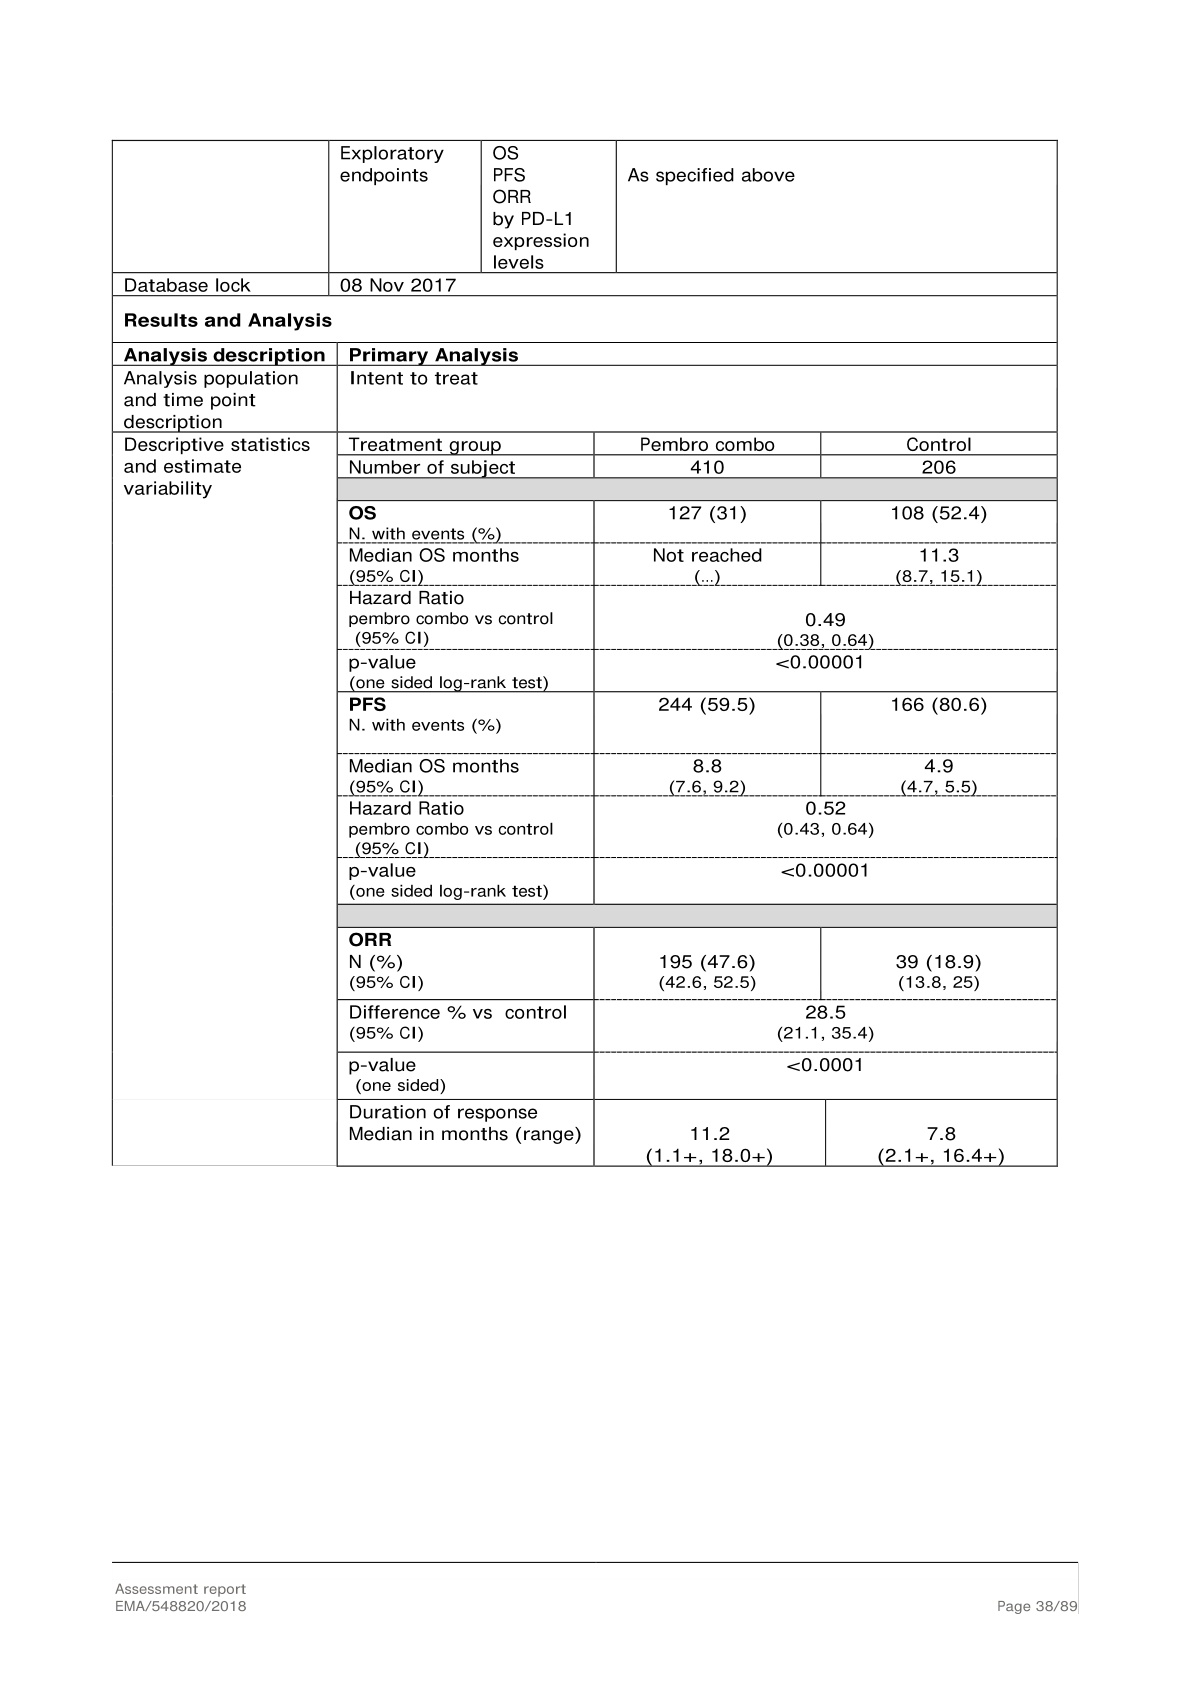partial_lined_merged_cells: (111, 139, 1060, 1168)
